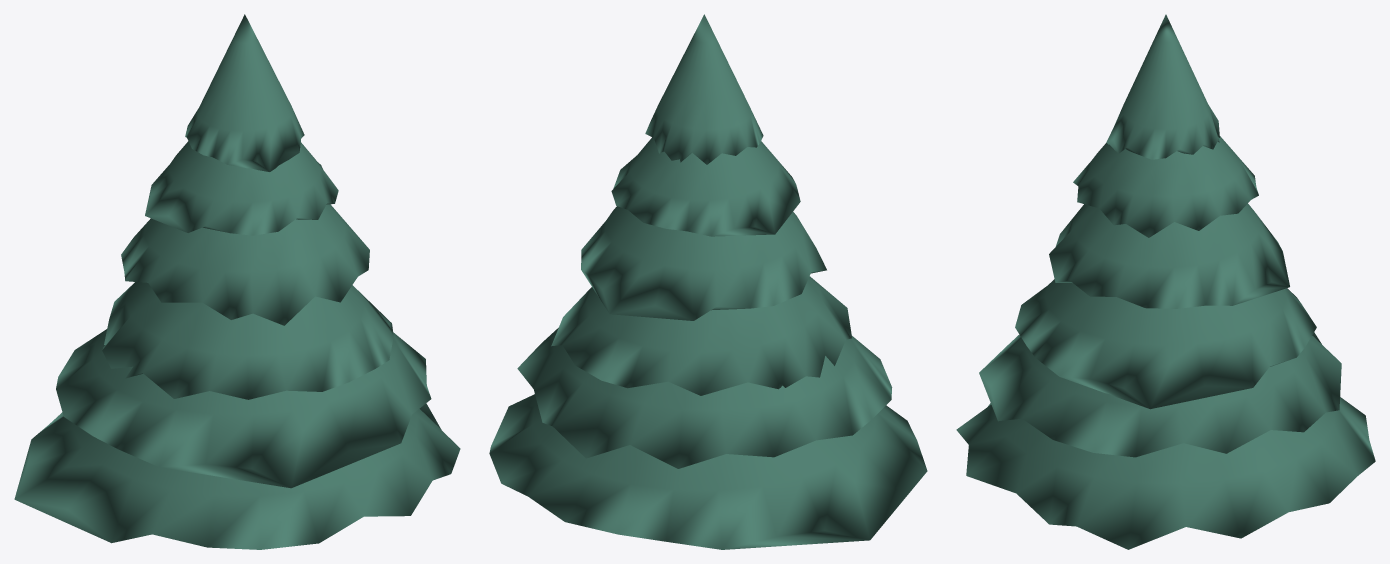
The model's file is arbol.gltf.
3 renders of one model, left to right at view 1: azimuth 30°, elevation 25°; view 2: azimuth 150°, elevation 25°; view 3: azimuth 270°, elevation 25°, orthographic. The views are drawn at different scales.
Visible parts, largest first — view 1: Node5, Node4, Node3, Node2, Node6, Node1; view 2: Node5, Node4, Node3, Node2, Node6, Node1; view 3: Node5, Node3, Node4, Node2, Node6, Node1.
Boxes of the visible parts, box(x1,y1,x2,y2) form: Node5: box(14, 403, 460, 549); Node4: box(56, 329, 431, 488); Node3: box(102, 282, 393, 399); Node2: box(121, 204, 369, 325); Node6: box(145, 141, 338, 235); Node1: box(185, 14, 304, 171); Node5: box(489, 394, 927, 549); Node4: box(517, 328, 892, 468); Node3: box(551, 276, 851, 395); Node2: box(581, 206, 826, 320); Node6: box(611, 137, 800, 236); Node1: box(645, 14, 763, 164); Node5: box(956, 397, 1375, 549); Node3: box(1015, 279, 1316, 409); Node4: box(979, 332, 1341, 457); Node2: box(1049, 203, 1289, 308); Node6: box(1073, 136, 1258, 237); Node1: box(1106, 14, 1219, 159).
Size of the model in its own units: 24.05 by 29.46 by 23.19.
